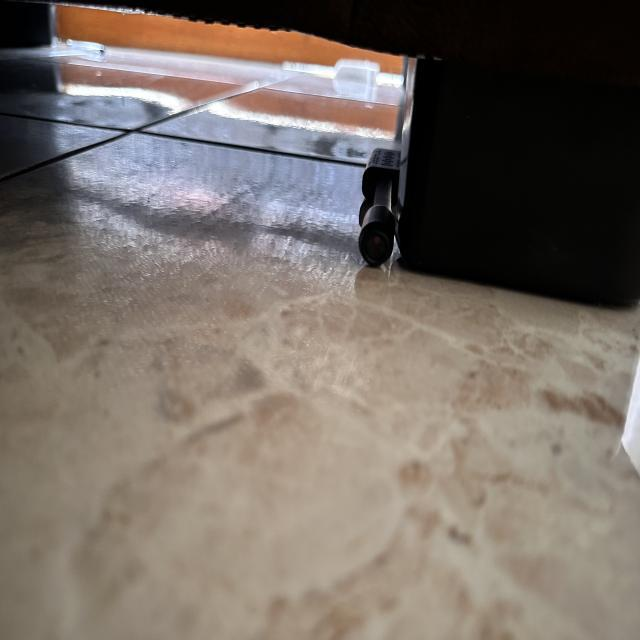hidden camera: (361, 228, 392, 267)
